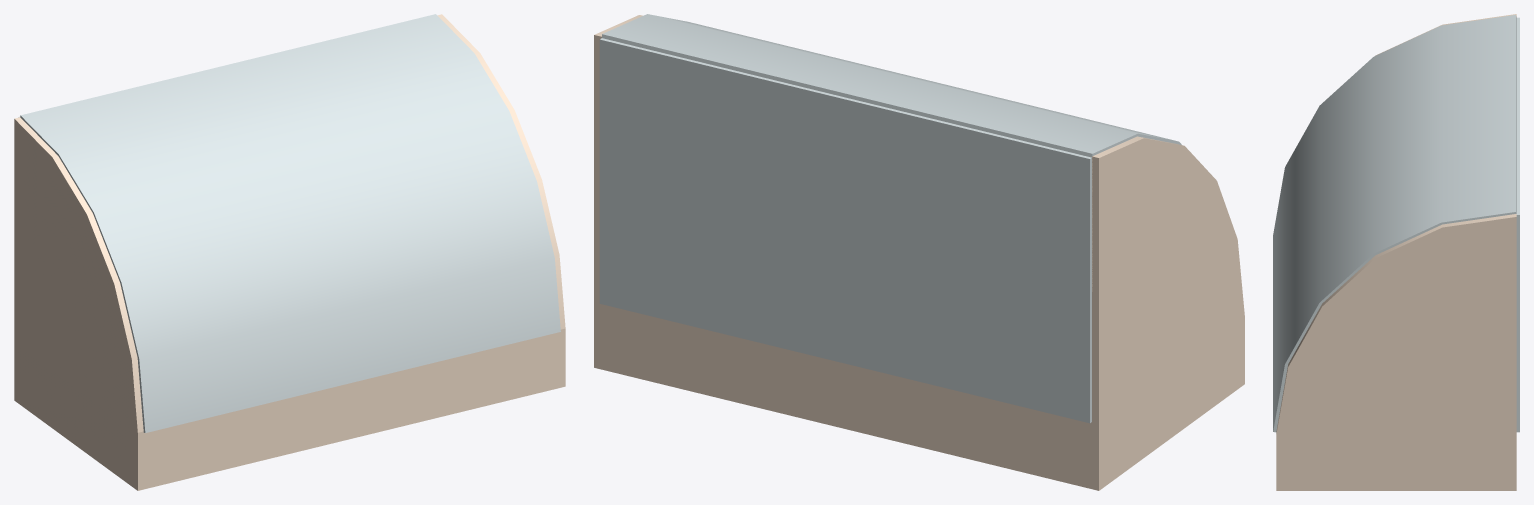
Rendered from cupcake_counter.fbx.
3 views of the same model, side by side, from view 1: azimuth 30°, elevation 25°; view 2: azimuth 150°, elevation 25°; view 3: azimuth 270°, elevation 25° (orthographic). The views are drawn at different scales.
Visible parts, largest first — view 1: glass, polySurface3; view 2: glass, polySurface3; view 3: polySurface3, glass.
Boxes of the visible parts, bbox=[...] form: glass: bbox=[18, 14, 560, 432]; polySurface3: bbox=[14, 14, 565, 490]; glass: bbox=[599, 14, 1181, 423]; polySurface3: bbox=[594, 15, 1244, 490]; polySurface3: bbox=[1276, 14, 1516, 490]; glass: bbox=[1273, 15, 1519, 432].
Size of the model in its own units: 7.19 by 4.56 by 3.7.
